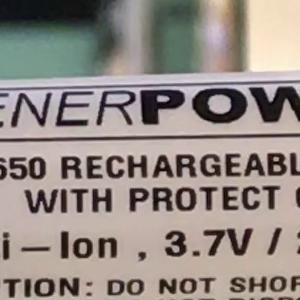3.7V: (155, 218, 261, 267)
